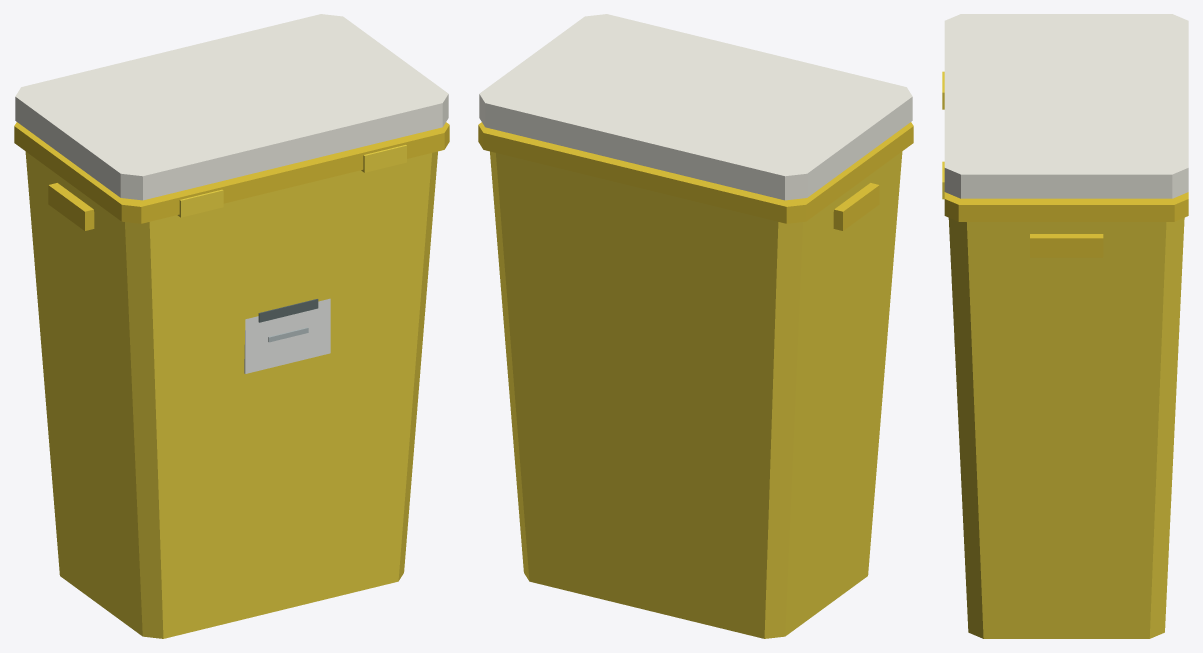
File: yellowBin.glb
The picture shows the model from 3 angles, left to right: view 1: azimuth 30°, elevation 25°; view 2: azimuth 150°, elevation 25°; view 3: azimuth 270°, elevation 25°; orthographic projection.
Visible parts, largest first — view 1: Gult avfallskärl; view 2: Gult avfallskärl; view 3: Gult avfallskärl.
Boxes of the visible parts, x1,y1,x2,y2 form: Gult avfallskärl: (14,14,449,638); Gult avfallskärl: (478,14,913,638); Gult avfallskärl: (942,14,1188,638).
Bounding box in the file's own units: 0.5648 × 0.7821 × 0.3634.
